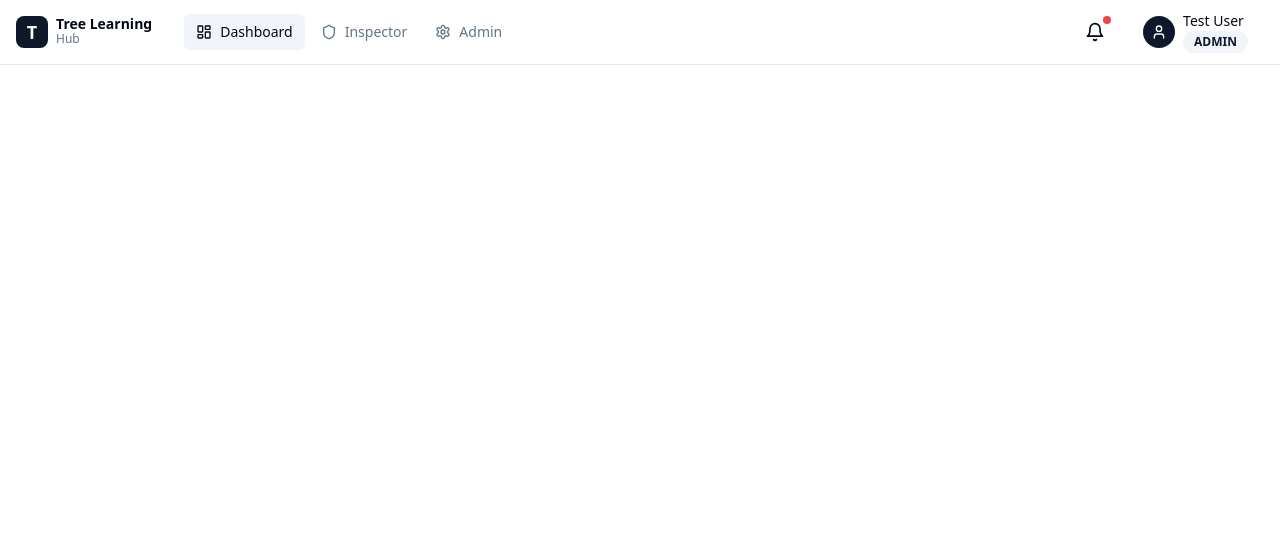
Test: Nav › toggles notifications panel when bell icon is clicked
Click the button named "Toggle notifications". click: (1095, 32)
box: [1075,12,1115,52]
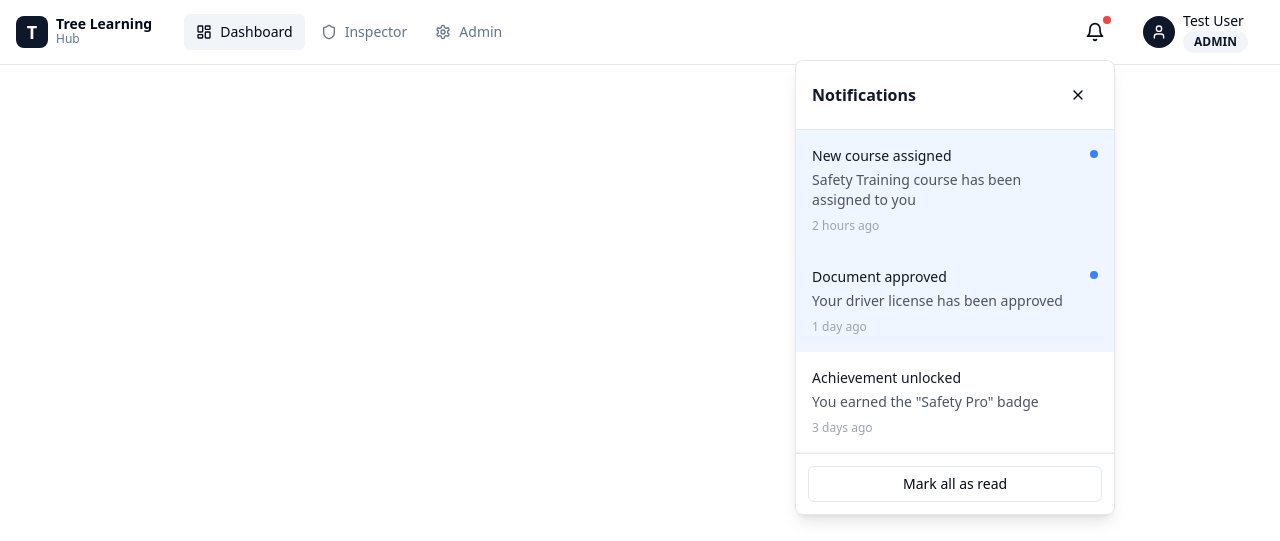
Expected: the heading "Notifications" is shown, [812,83,916,107]
Expected: the text "New course assigned" is shown, [812,146,952,165]
